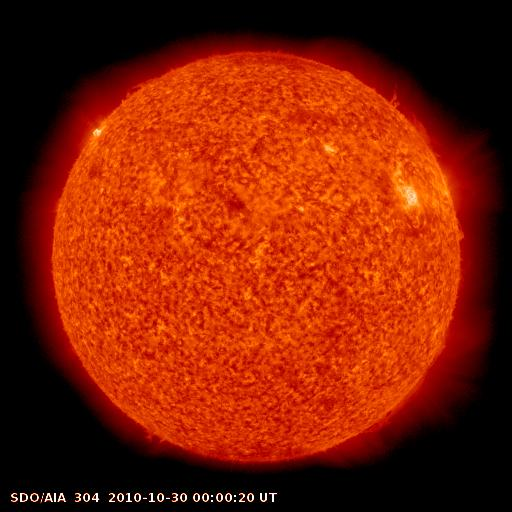prominence: (377, 73, 443, 162), (363, 369, 435, 436), (112, 64, 171, 107), (132, 414, 175, 454), (448, 205, 482, 254)
